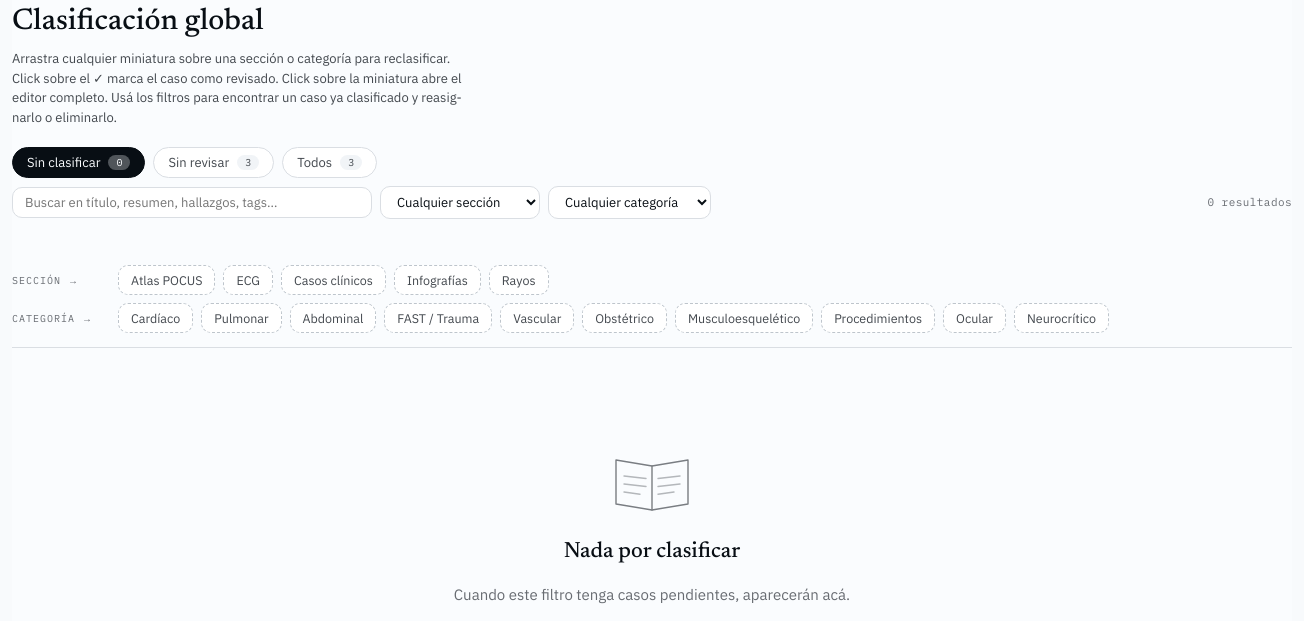
Test: ClassifierBoard drop handling › auxiliary filters (search / section / category) compose with the queue-state pill
Click the tab "Todos 3": {"x": 330, "y": 162} [282, 147, 377, 178]
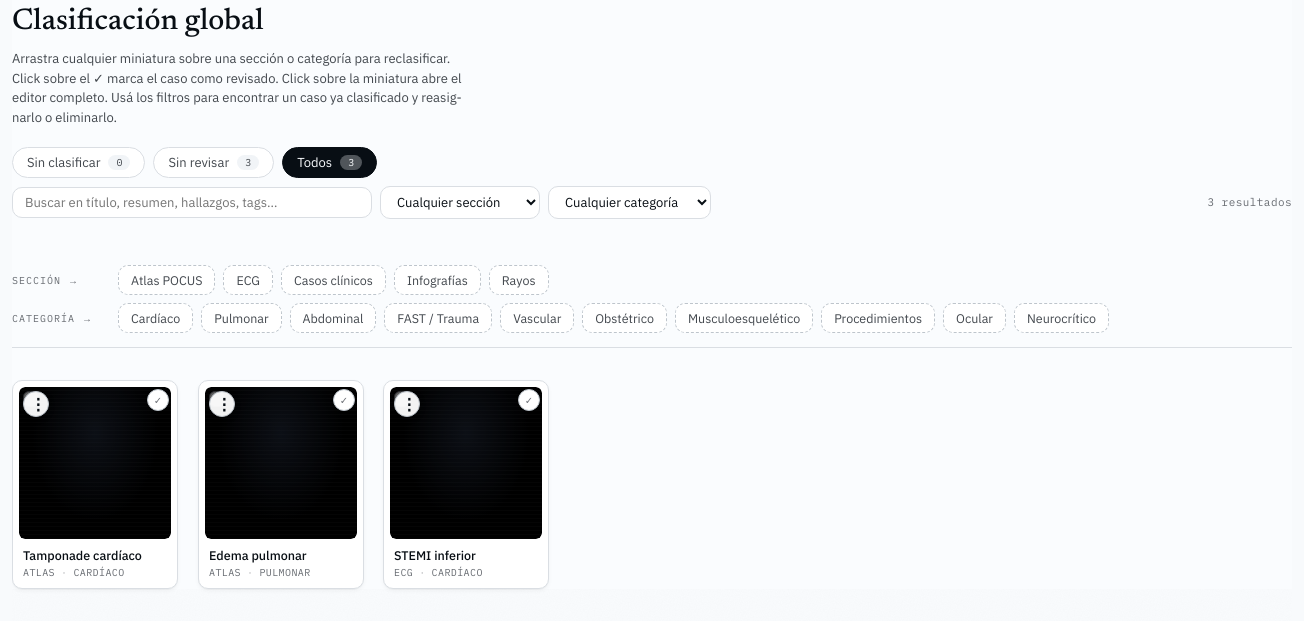
Expected: the text "Tamponade cardíaco" is shown, [23, 547, 142, 563]
Expected: the text "Edema pulmonar" is shown, [209, 547, 306, 563]
Expected: the text "STEMI inferior" is shown, [394, 547, 476, 563]
// Filter by section "ecg" — only the STEMI case should remain.
Select "ECG" in the dropdown named "Filtrar por sección": {"x": 460, "y": 202} [380, 186, 540, 219]
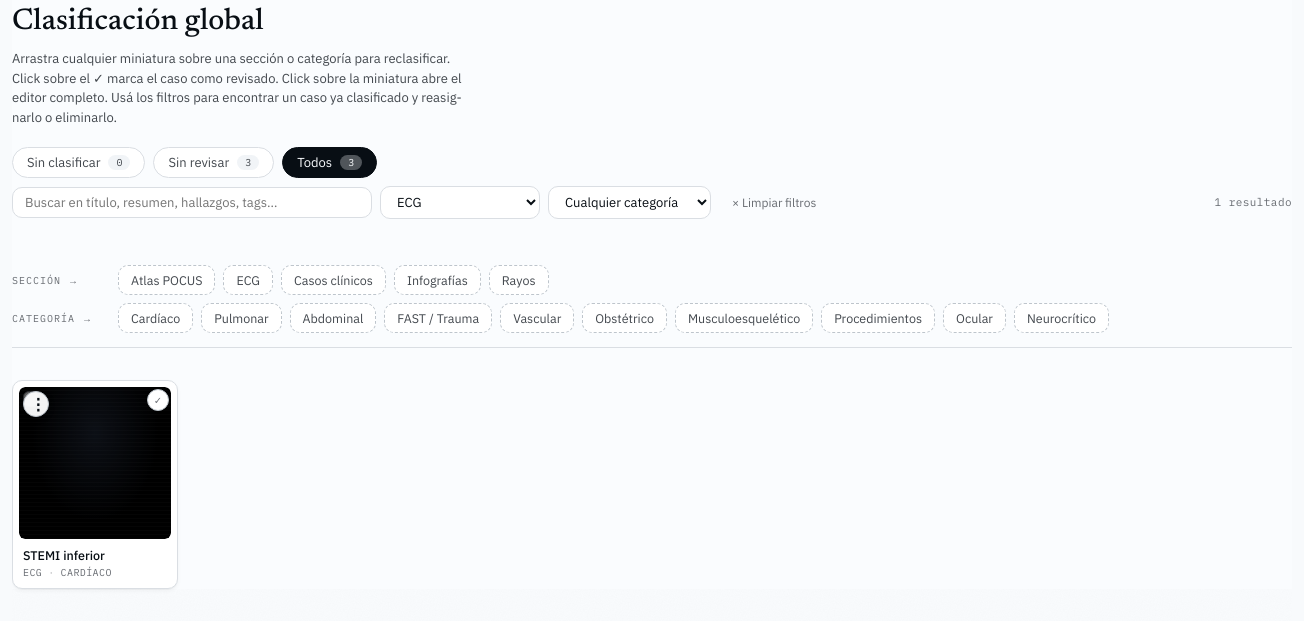
Expected: the text "STEMI inferior" is shown, [23, 547, 105, 563]
Expected: the text "Tamponade cardíaco" is gone
Expected: the text "Edema pulmonar" is gone
Select "Cualquier sección" in the dropdown named "Filtrar por sección": {"x": 460, "y": 202} [380, 186, 540, 219]
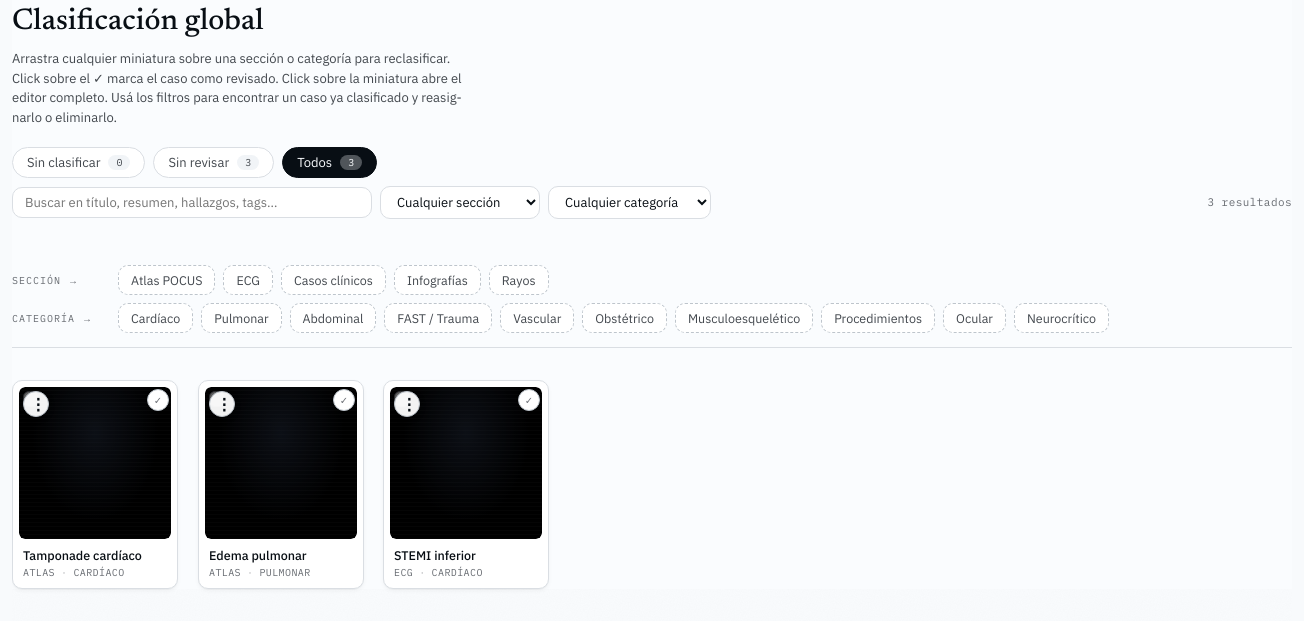
Select "Cardíaco" in the dropdown named "Filtrar por categoría": {"x": 630, "y": 202} [548, 186, 711, 219]
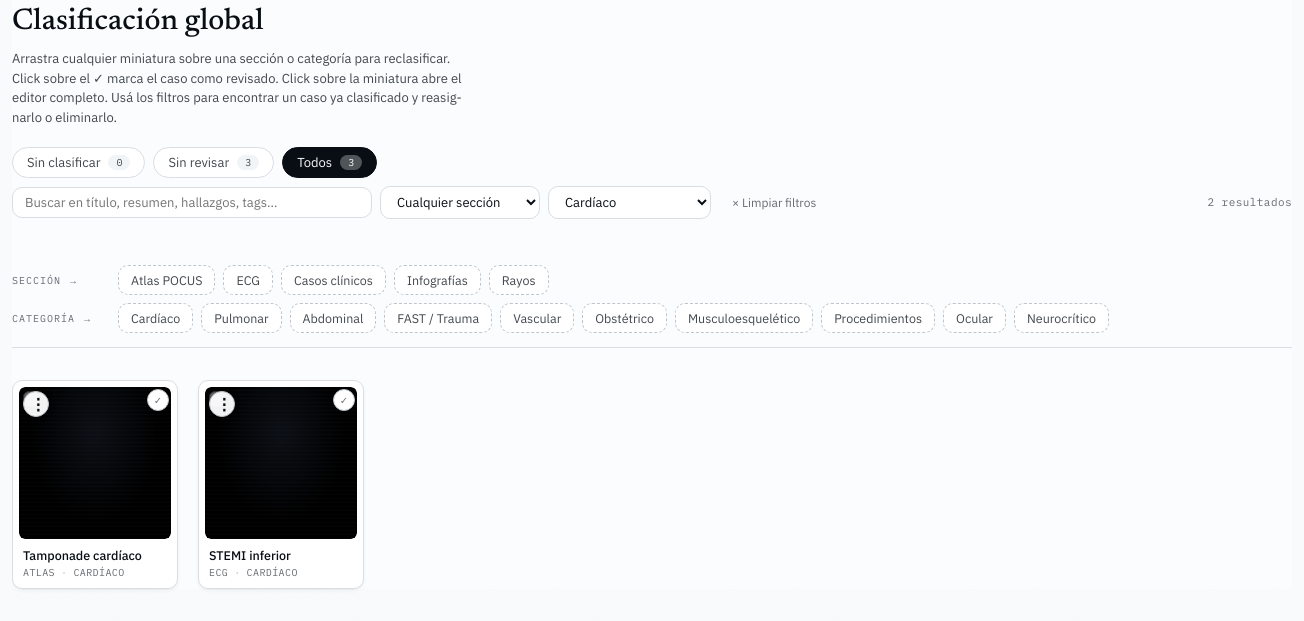
Expected: the text "Tamponade cardíaco" is shown, [23, 547, 142, 563]
Expected: the text "STEMI inferior" is shown, [209, 547, 290, 563]
Expected: the text "Edema pulmonar" is gone
// Add a text search "STEMI" — only the ECG case should match.
In the search field named "Buscar caso por texto": {"x": 192, "y": 202} [12, 187, 372, 218], type "STEMI"
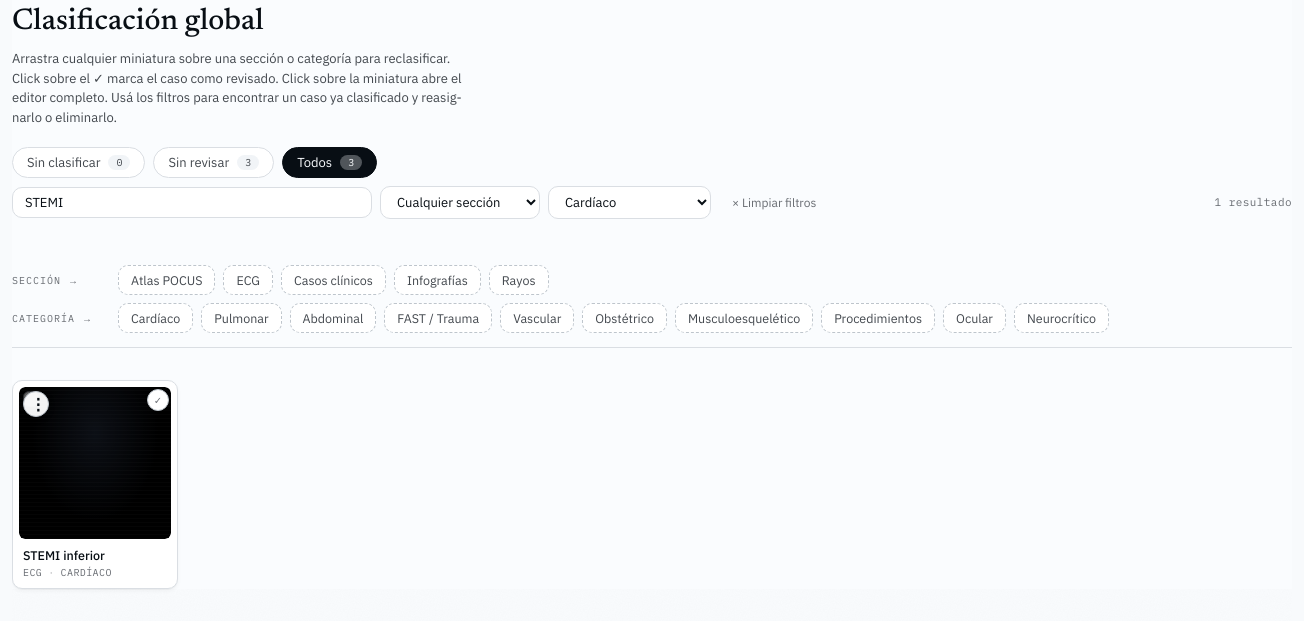
Expected: the text "Edema pulmonar" is not shown
Expected: the text "STEMI inferior" is shown, [23, 547, 105, 563]
Expected: the text "Tamponade cardíaco" is gone
